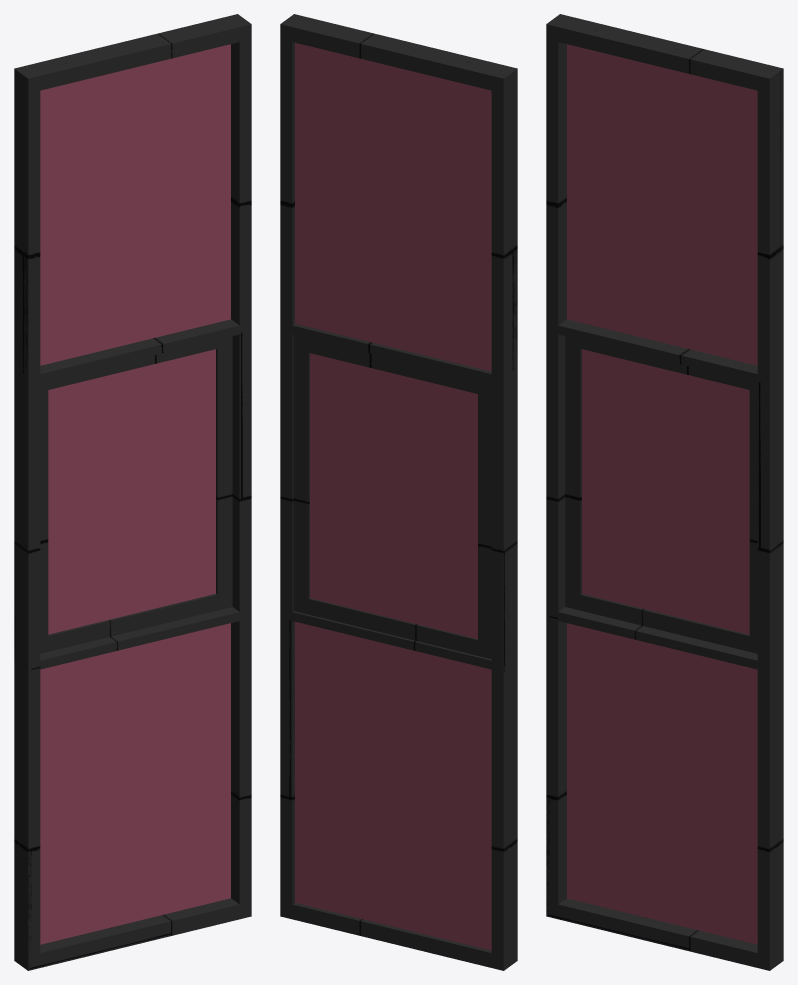
The model's file is MCHouse-WindowK1.fbx.
3 views of the same model, side by side, from view 1: azimuth 30°, elevation 25°; view 2: azimuth 150°, elevation 25°; view 3: azimuth 330°, elevation 25° (orthographic).
Parts seen in each view (by area): view 1: MCHouse-WindowK1; view 2: MCHouse-WindowK1; view 3: MCHouse-WindowK1.
Part boxes in pixels (x1,y1,x2,y2): MCHouse-WindowK1: [14, 14, 251, 970]; MCHouse-WindowK1: [280, 14, 517, 970]; MCHouse-WindowK1: [546, 14, 783, 970].
Size of the model in its own units: 92.5 by 353 by 10.
